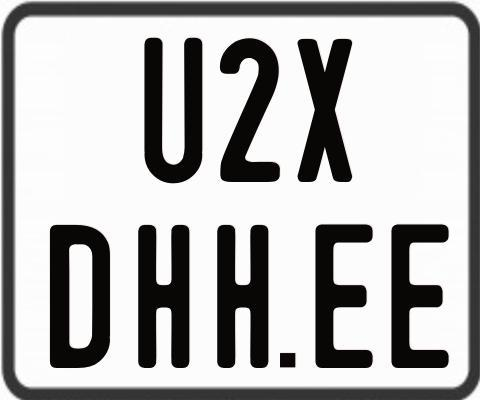2: (220, 36, 280, 183)
D: (47, 225, 108, 371)
E: (313, 221, 377, 365), (391, 224, 450, 373)
H: (135, 222, 188, 371), (215, 225, 268, 371)
U: (143, 37, 204, 187)
X: (295, 38, 349, 183)
